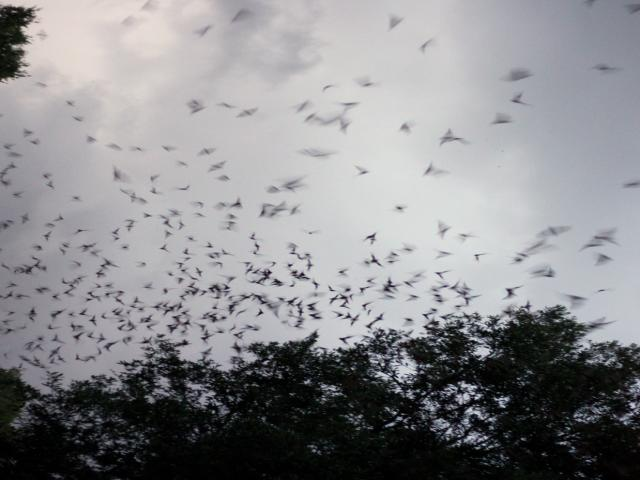Bird: (0, 0, 639, 479), (504, 88, 537, 110), (379, 9, 406, 34), (422, 34, 435, 54)
